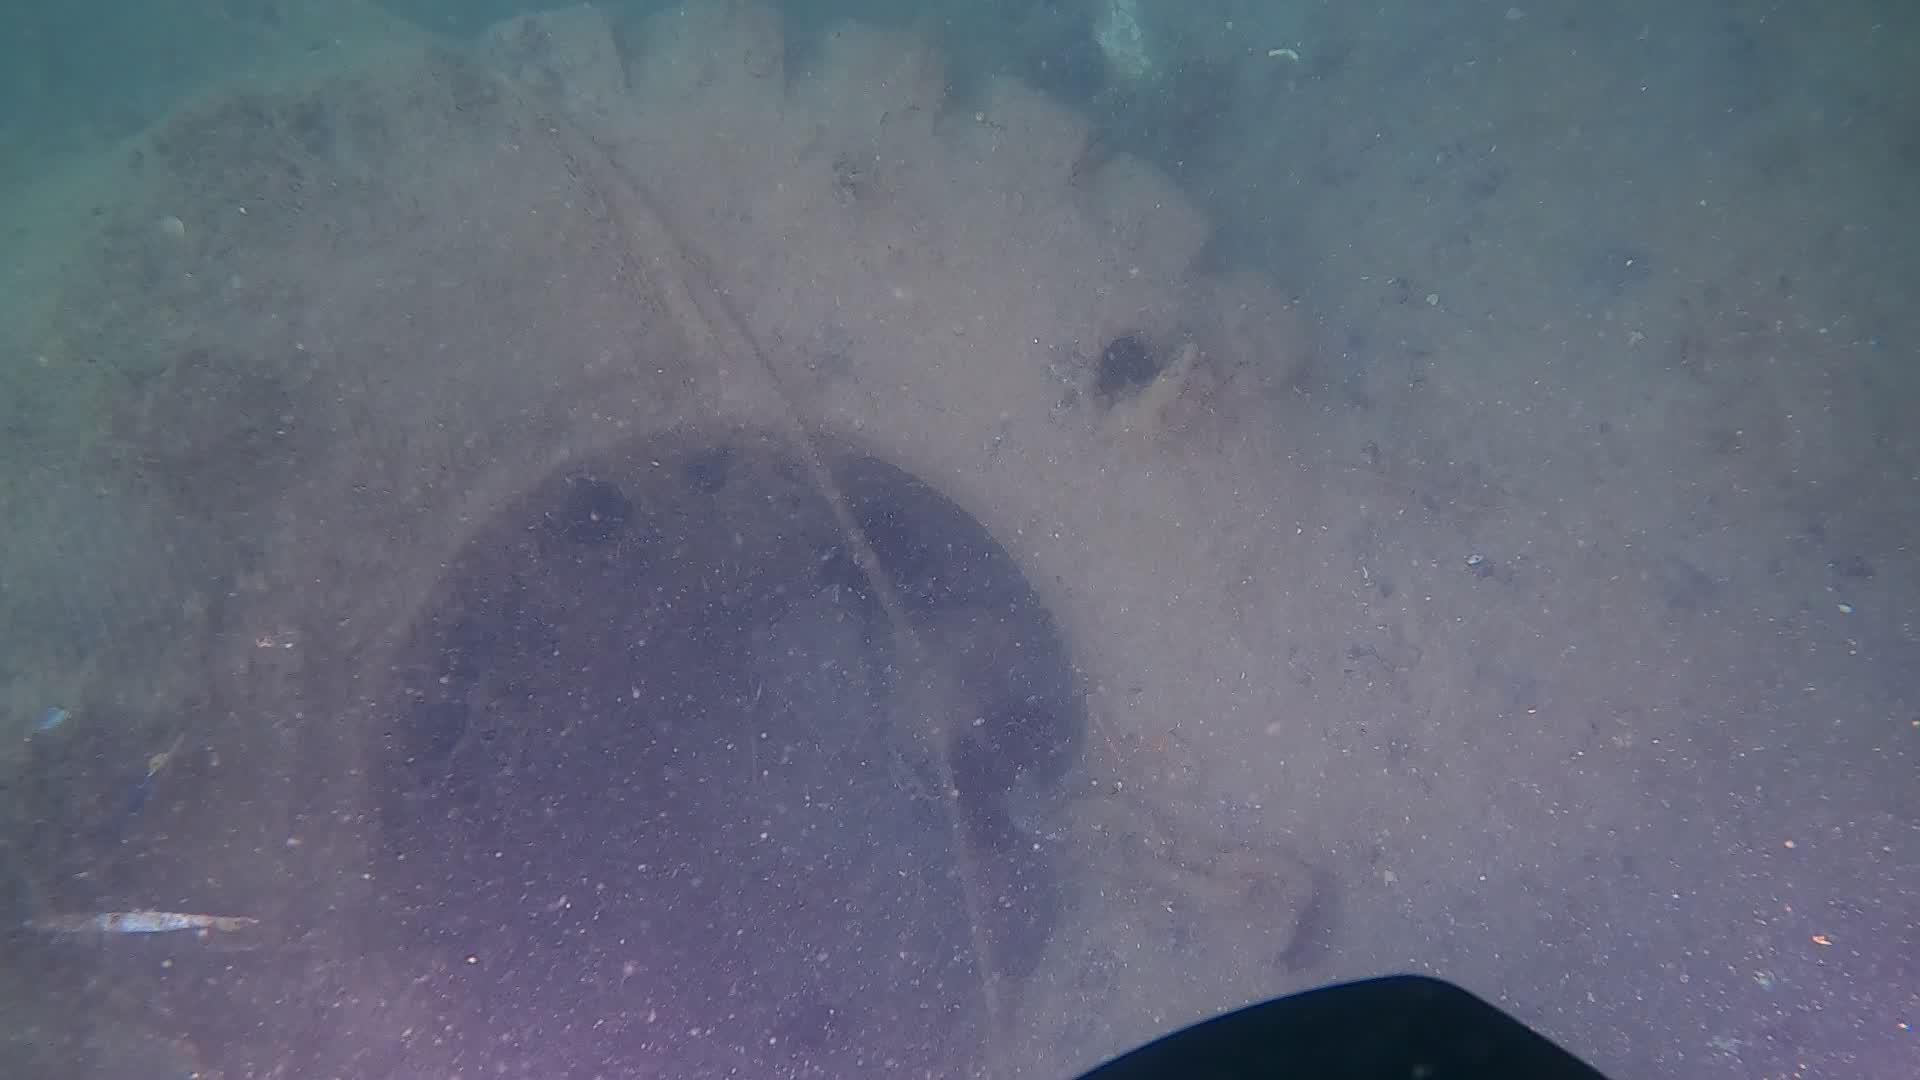tire: (0, 3, 1445, 1080)
